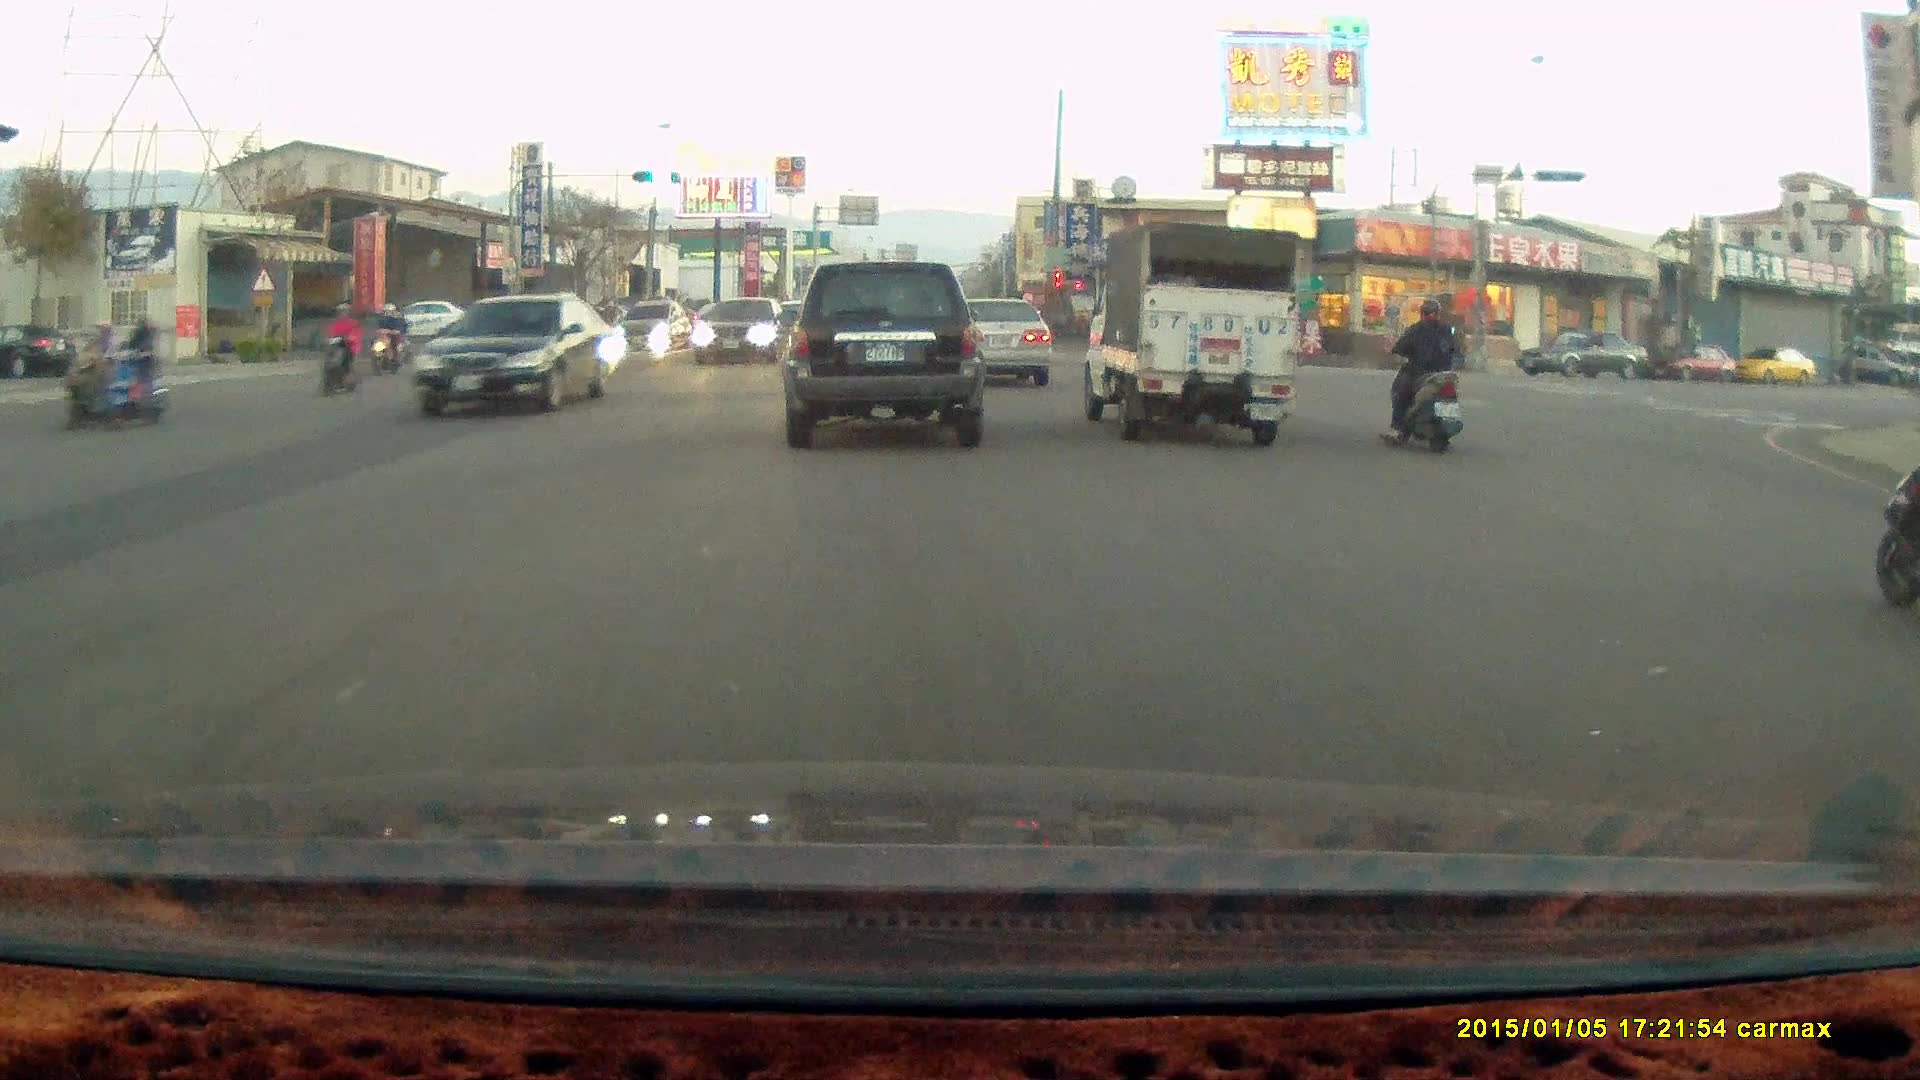rider: (1380, 292, 1464, 453), (84, 313, 163, 426), (1870, 435, 1920, 607), (57, 314, 126, 424), (319, 302, 364, 397), (371, 301, 410, 374)
vehicle: (1071, 220, 1298, 446), (779, 257, 986, 450), (416, 292, 621, 420), (935, 293, 1052, 388), (949, 296, 1056, 390), (691, 296, 794, 368), (1515, 328, 1652, 378), (383, 296, 484, 342), (1652, 342, 1741, 387), (1732, 347, 1819, 386)
